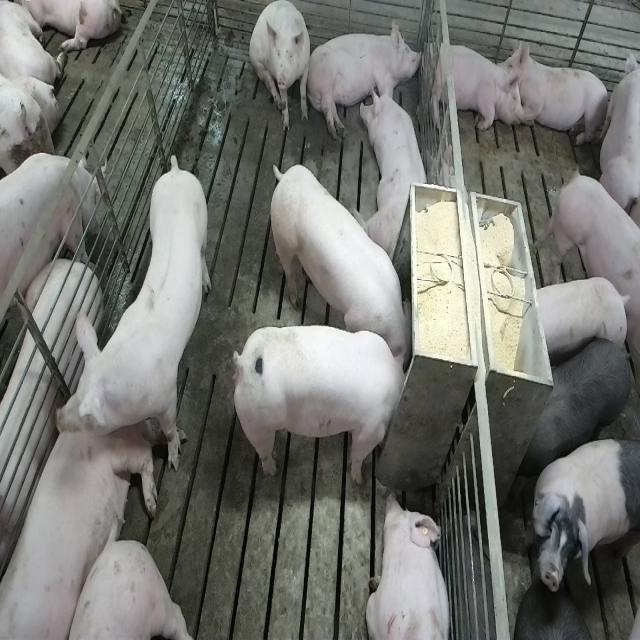Feeding: (265, 161, 412, 364), (228, 322, 408, 484)
Lateral_lying: (307, 16, 424, 142)
Sitting: (250, 1, 312, 134)
Standing: (52, 158, 212, 484), (547, 161, 640, 385), (0, 154, 98, 347), (528, 436, 636, 590), (521, 332, 636, 476), (599, 37, 640, 238), (532, 277, 629, 359)
Sternal_lying: (0, 365, 150, 635), (362, 70, 433, 260), (365, 488, 453, 640), (509, 40, 612, 148), (424, 34, 525, 135)
